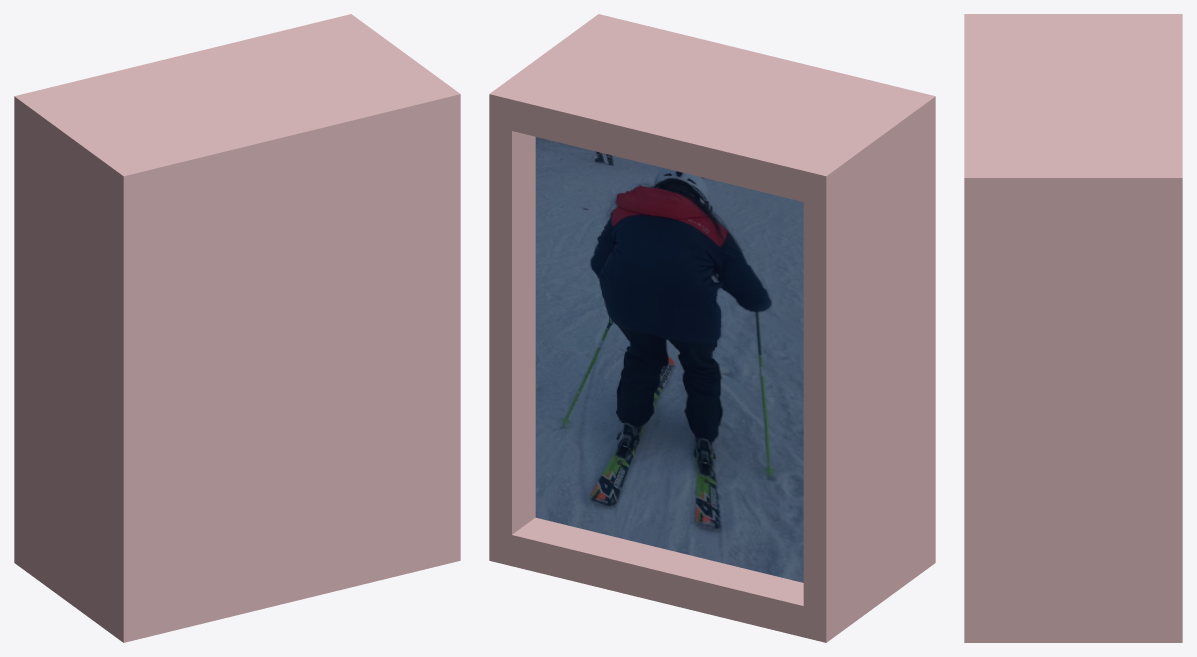
The model's file is f0aefff0-337e-405c-9ebb-b3238b2987e0.glb.
3 renders of one model, left to right at view 1: azimuth 30°, elevation 25°; view 2: azimuth 150°, elevation 25°; view 3: azimuth 270°, elevation 25°, orthographic.
Parts seen in each view (by area): view 1: Cube; view 2: Cube; view 3: Cube.
Part boxes in pixels (x1,y1,x2,y2): Cube: [14, 14, 460, 642]; Cube: [489, 14, 935, 642]; Cube: [964, 14, 1182, 642].
Size of the model in its own units: 2.28 by 3.02 by 1.28.
2 materials, 1 textured.
